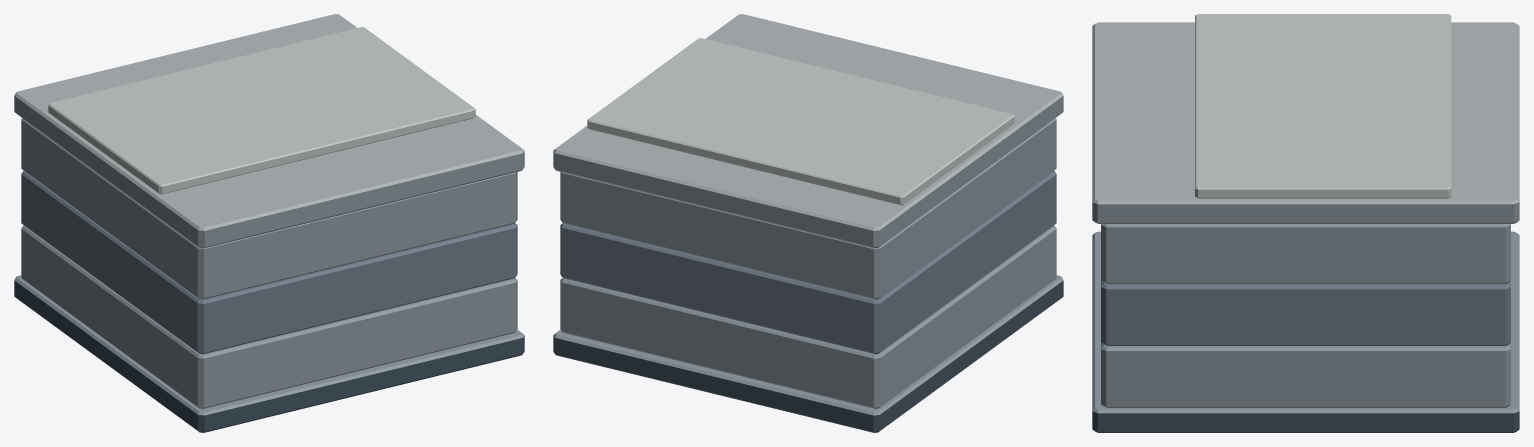
The model's file is platform.glb.
3 views of the same model, side by side, from view 1: azimuth 30°, elevation 25°; view 2: azimuth 150°, elevation 25°; view 3: azimuth 270°, elevation 25° (orthographic). The views are drawn at different scales.
Parts seen in each view (by area): view 1: platform__body; view 2: platform__body; view 3: platform__body.
Part boxes in pixels (x1,y1,x2,y2): platform__body: [14, 14, 524, 432]; platform__body: [553, 14, 1063, 432]; platform__body: [1092, 14, 1519, 432].
Size of the model in its own units: 2 by 1.25 by 2.
